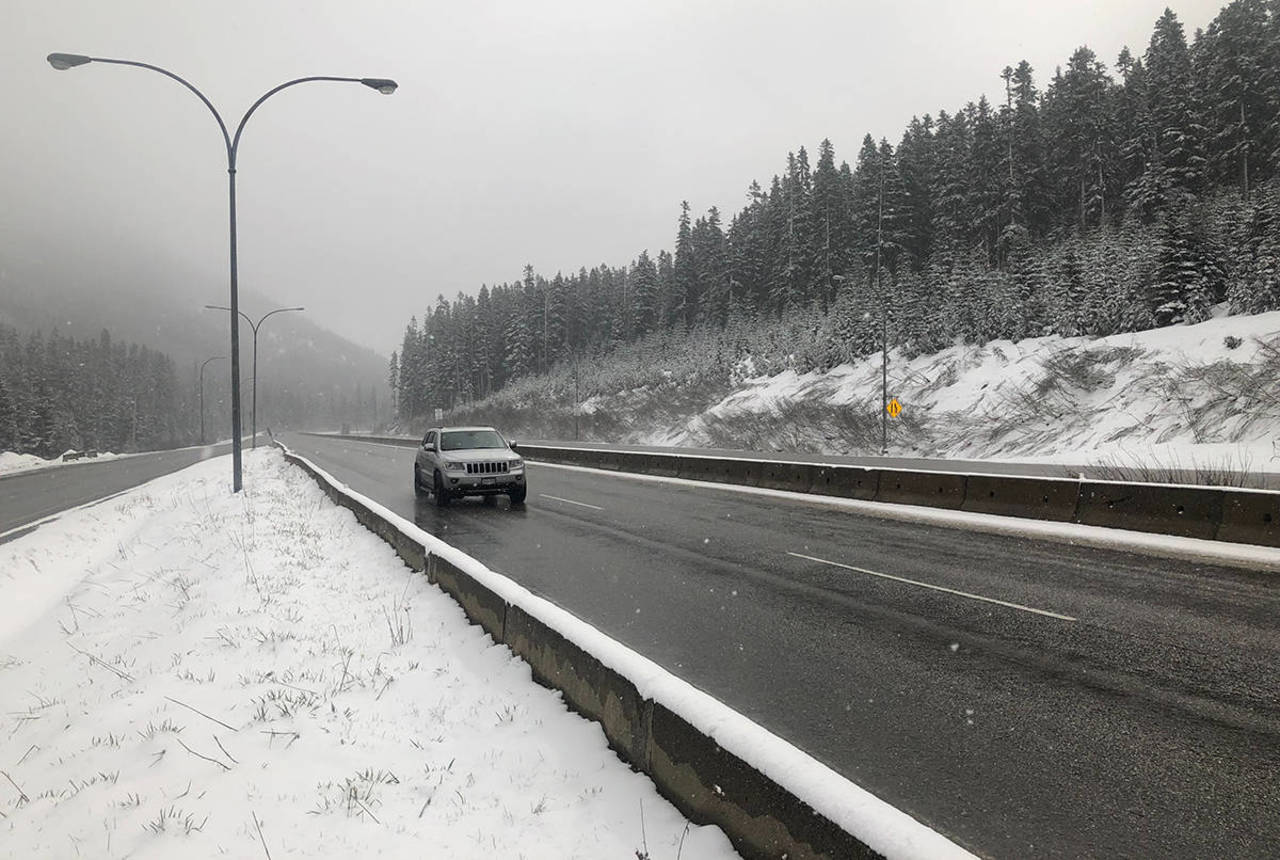car: (412, 424, 529, 510)
